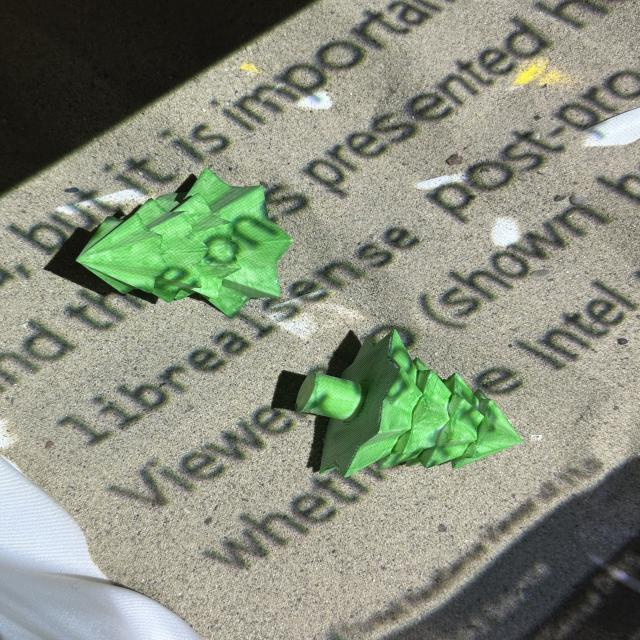tree: (294, 327, 524, 479), (74, 166, 294, 318)
